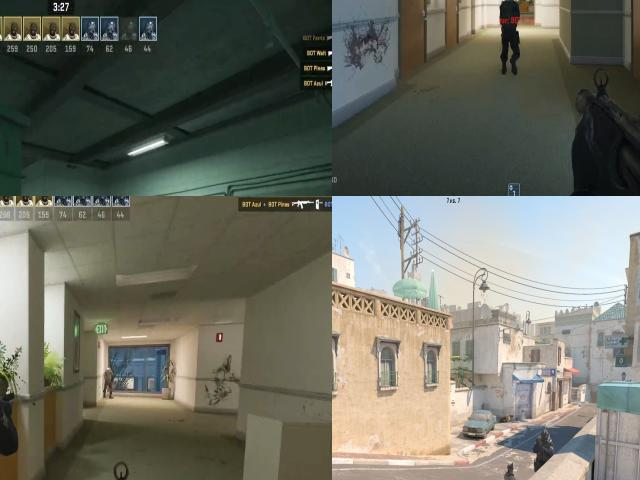CT: (494, 0, 522, 45), (534, 427, 553, 467), (103, 366, 113, 393)
CT-Head: (539, 430, 550, 442), (501, 0, 515, 6)
Dead: (502, 414, 515, 424)
